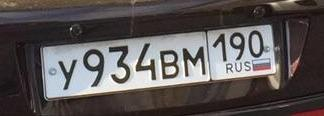license-plateSW: (38, 20, 278, 100)
